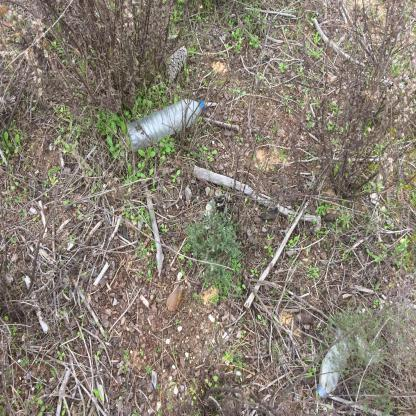plastik: (127, 100, 205, 153)
